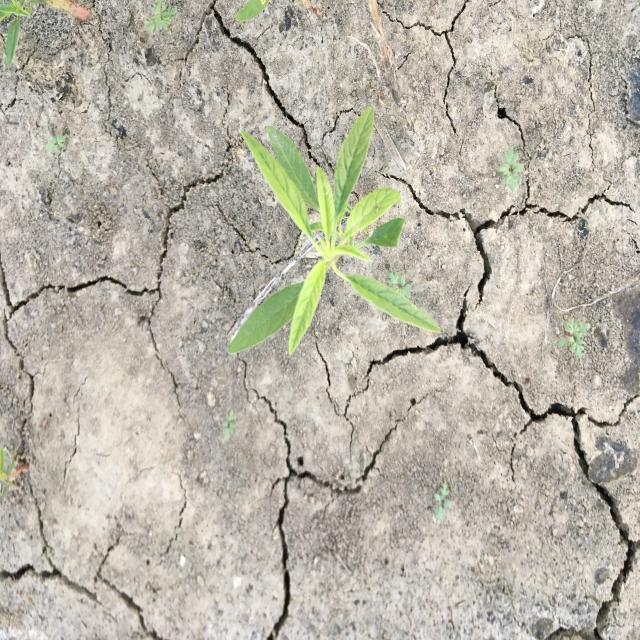Ragweed: (556, 316, 593, 360), (497, 142, 527, 196), (137, 2, 181, 36)
Waterhemp: (225, 104, 444, 358)
